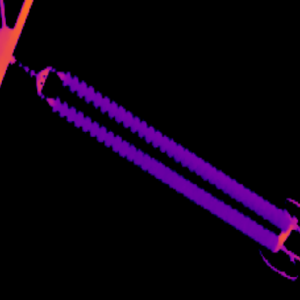insulator: (56, 62, 292, 235), (44, 89, 279, 253)
